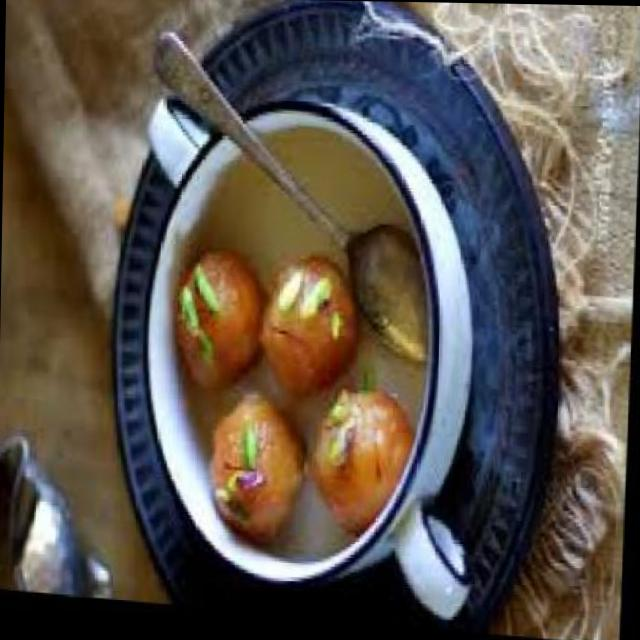gulab_jamun: (316, 391, 419, 540), (215, 400, 312, 550), (264, 256, 362, 402), (174, 252, 269, 401)
